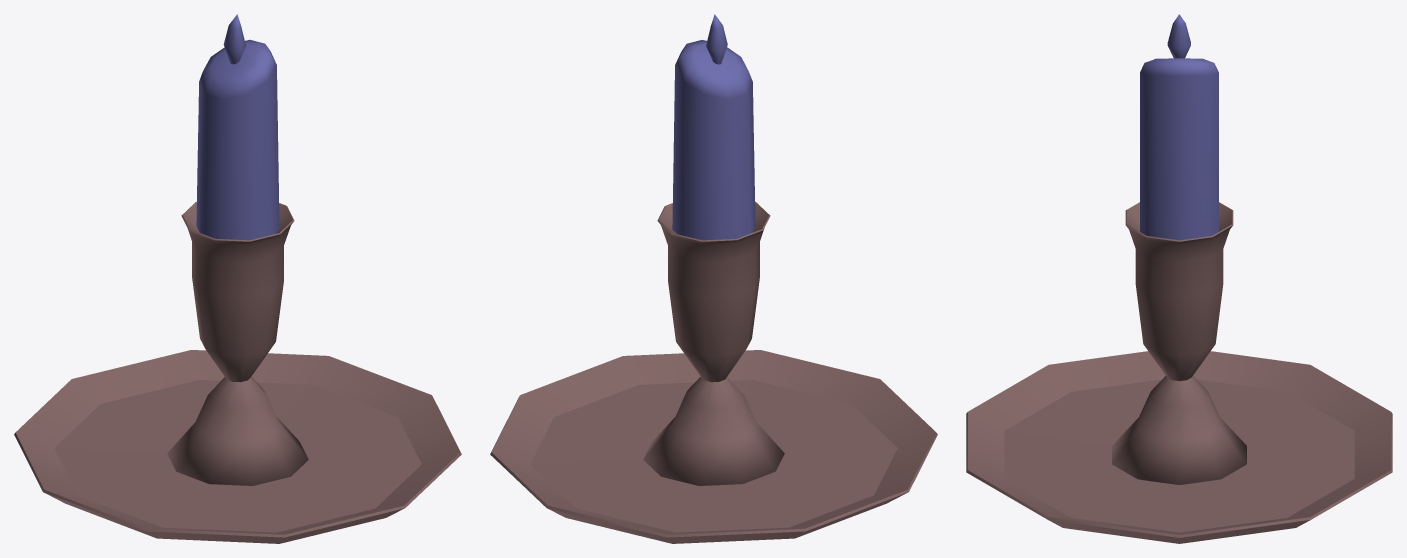
The model's file is CandleHolder.fbx.
3 views of the same model, side by side, from view 1: azimuth 30°, elevation 25°; view 2: azimuth 150°, elevation 25°; view 3: azimuth 270°, elevation 25° (orthographic).
Parts seen in each view (by area): view 1: Dish, Candle; view 2: Dish, Candle; view 3: Dish, Candle.
Part boxes in pixels (<box>): Dish: <box>14,350,461,543</box>; Candle: <box>167,14,308,485</box>; Dish: <box>490,350,937,543</box>; Candle: <box>643,14,784,485</box>; Dish: <box>966,351,1392,543</box>; Candle: <box>1112,14,1246,484</box>.
Size of the model in its own units: 0.5797 by 0.6373 by 0.5513.
